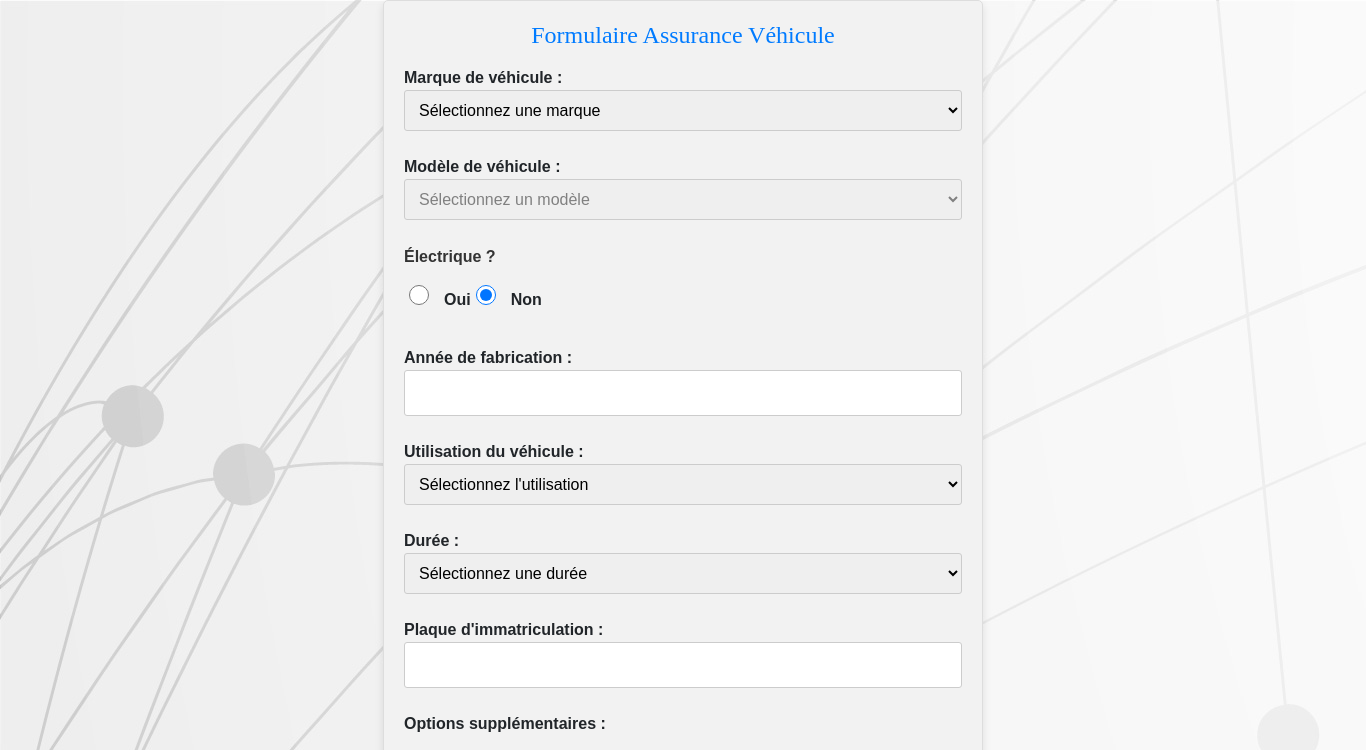
Scenario: AssuranceVehiculeForm Component › updates models when a marque is selected
Sélectionner une marque
Select "Audi" in the dropdown labelled "Marque de véhicule :" at (683,110), box [404,90,962,131]
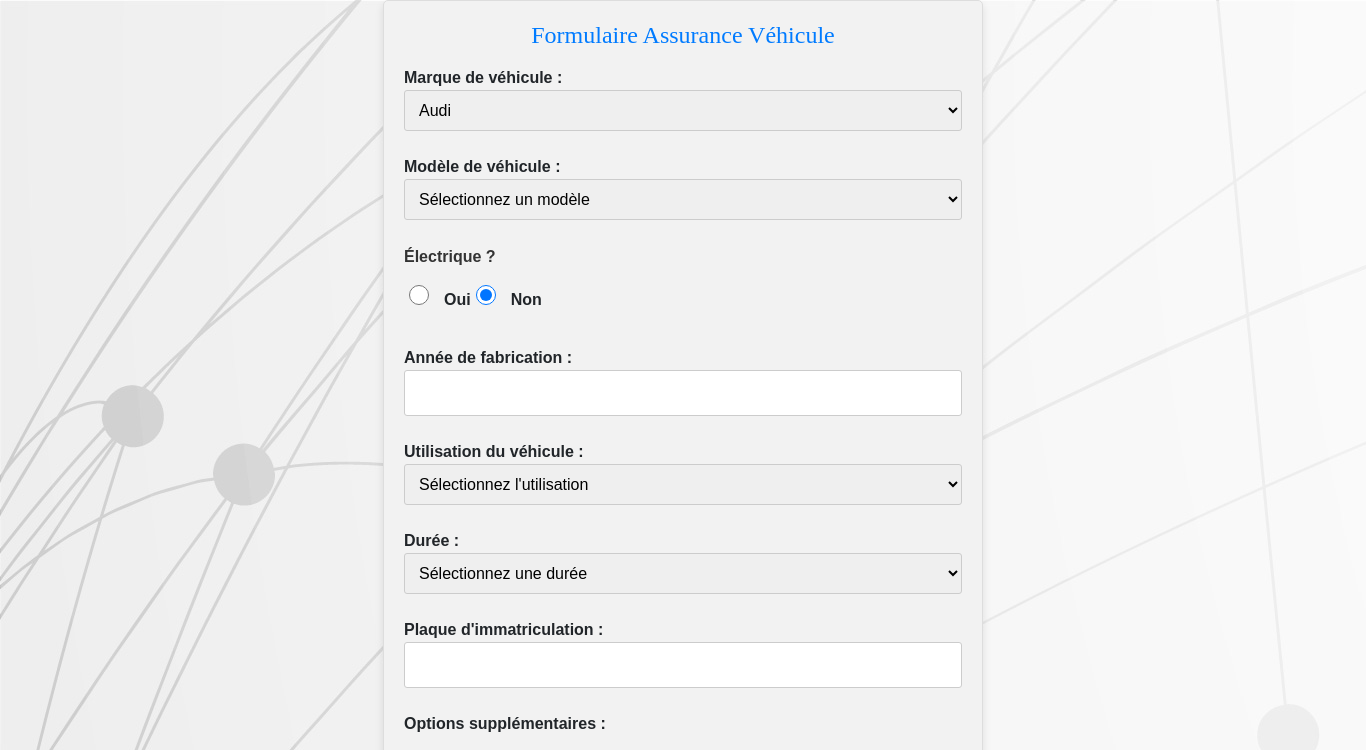
Check: the dropdown labelled "Modèle de véhicule :" is enabled, box [404,179,962,220]
